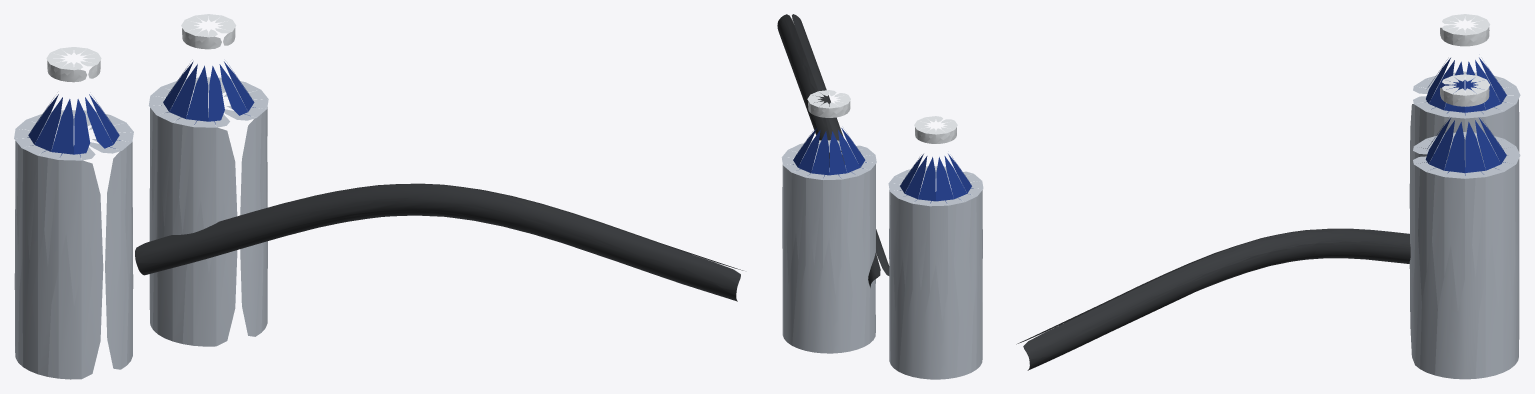
Rendered from oil_catch_tanks.glb.
The picture shows the model from 3 angles, left to right: view 1: azimuth 30°, elevation 25°; view 2: azimuth 150°, elevation 25°; view 3: azimuth 270°, elevation 25°; orthographic projection. The views are drawn at different scales.
Parts seen in each view (by area): view 1: Catch_Tank_Breathers_Assembly; view 2: Catch_Tank_Breathers_Assembly; view 3: Catch_Tank_Breathers_Assembly.
Part boxes in pixels (<box>): Catch_Tank_Breathers_Assembly: <box>14,14,743,379</box>; Catch_Tank_Breathers_Assembly: <box>777,14,983,379</box>; Catch_Tank_Breathers_Assembly: <box>1016,14,1520,379</box>.
Size of the model in its own units: 0.3272 by 0.189 by 0.3205.
